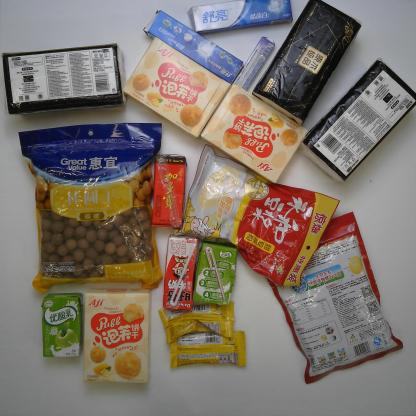Candy: (234, 35, 277, 90)
Chocolate: (156, 298, 244, 342), (161, 331, 249, 372)
Dessert: (119, 34, 235, 139), (196, 84, 312, 186), (80, 287, 158, 391)
Dried Food: (13, 119, 162, 293)
Drink: (150, 148, 190, 232)
Instant Drink: (253, 208, 406, 388), (173, 144, 345, 289)
Milk: (188, 232, 238, 313), (39, 292, 89, 367), (161, 226, 198, 316)
Personal Hygiene: (139, 9, 246, 87), (186, 2, 296, 33)
Tissue: (301, 58, 414, 184), (253, 0, 363, 126), (1, 42, 125, 117)
